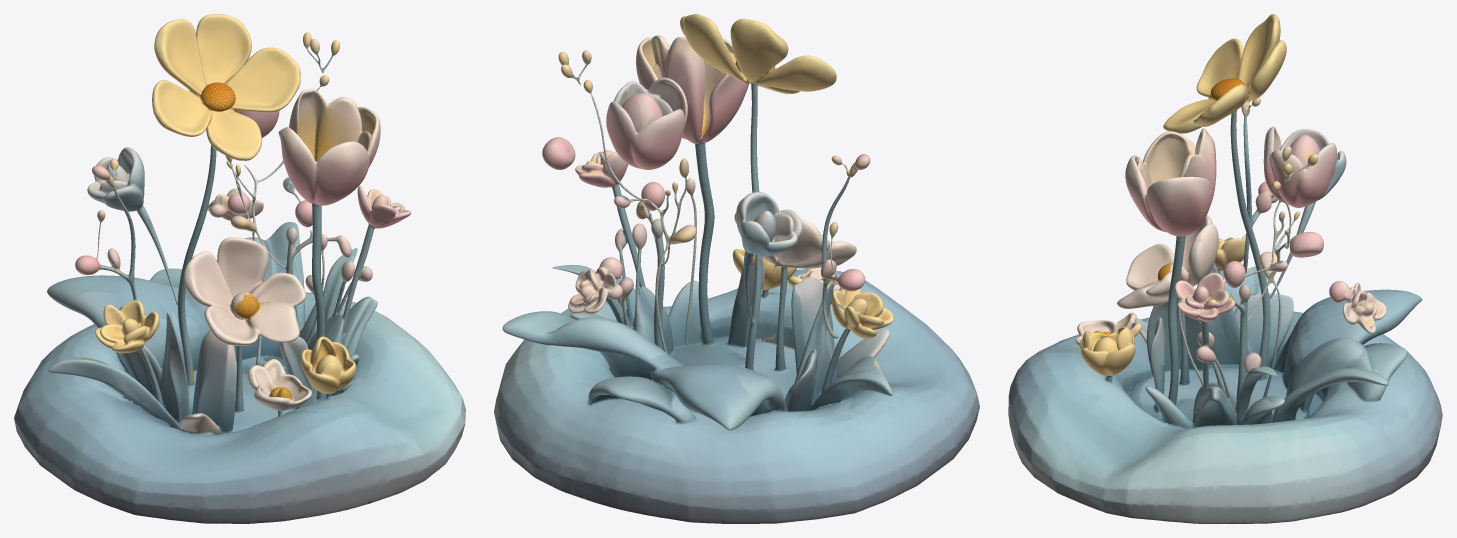
Rendered from Meshy_AI_Pastel_Garden_Dreams_1014114336_texture.fbx.
The picture shows the model from 3 angles, left to right: view 1: azimuth 30°, elevation 25°; view 2: azimuth 150°, elevation 25°; view 3: azimuth 270°, elevation 25°; orthographic projection. The views are drawn at different scales.
Visible parts, largest first — view 1: Mesh_0; view 2: Mesh_0; view 3: Mesh_0.
Part boxes in pixels (bbox=[...]): Mesh_0: bbox=[14, 14, 465, 523]; Mesh_0: bbox=[494, 14, 979, 523]; Mesh_0: bbox=[1008, 14, 1442, 523].
Size of the model in its own units: 179 by 190 by 182.
1 material, 1 textured.
